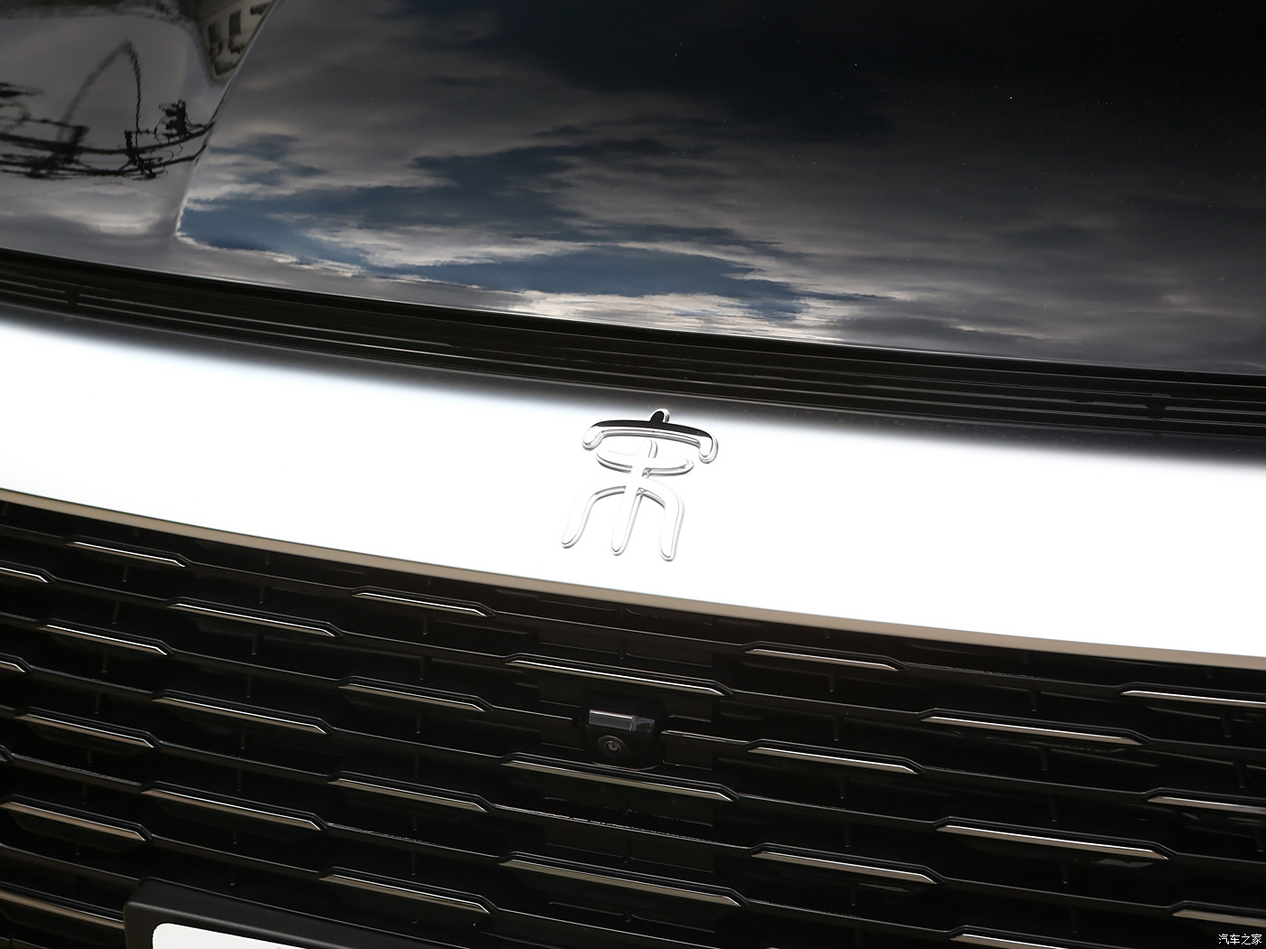BYD Song: (562, 409, 717, 559)
